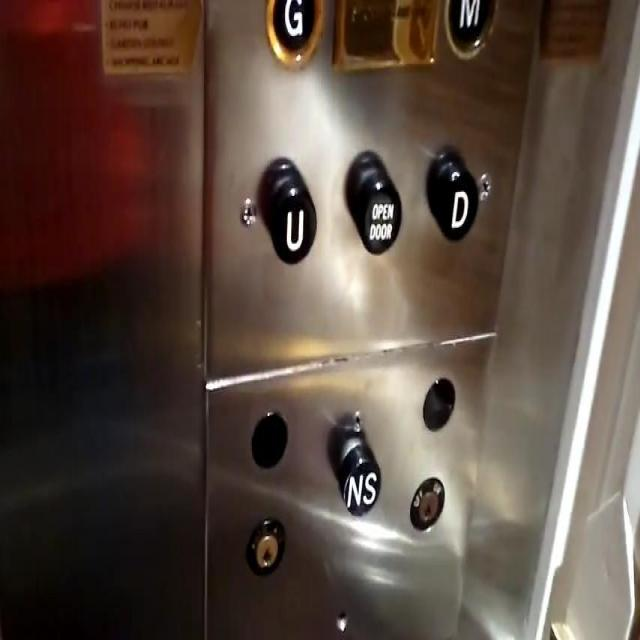D: (429, 140, 477, 252)
NS: (332, 420, 382, 521)
U: (262, 156, 317, 271)
empty: (250, 406, 288, 482), (421, 372, 454, 436)
keyhole: (246, 515, 285, 580), (408, 472, 446, 537)
text: (344, 145, 404, 263)
